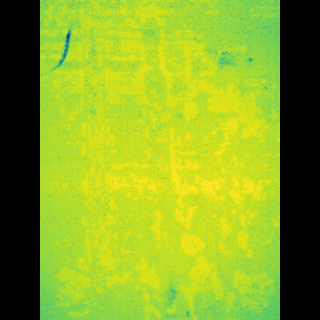Loch: (130, 0, 248, 320), (103, 0, 126, 301), (72, 86, 102, 316)
